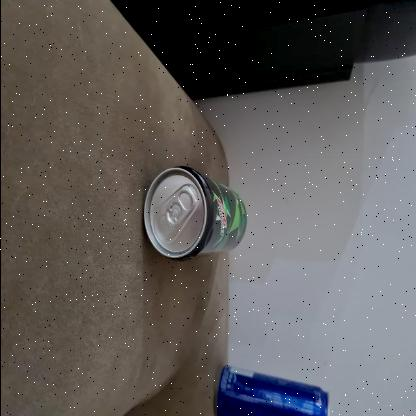Can: (140, 166, 246, 262), (214, 364, 328, 416)
